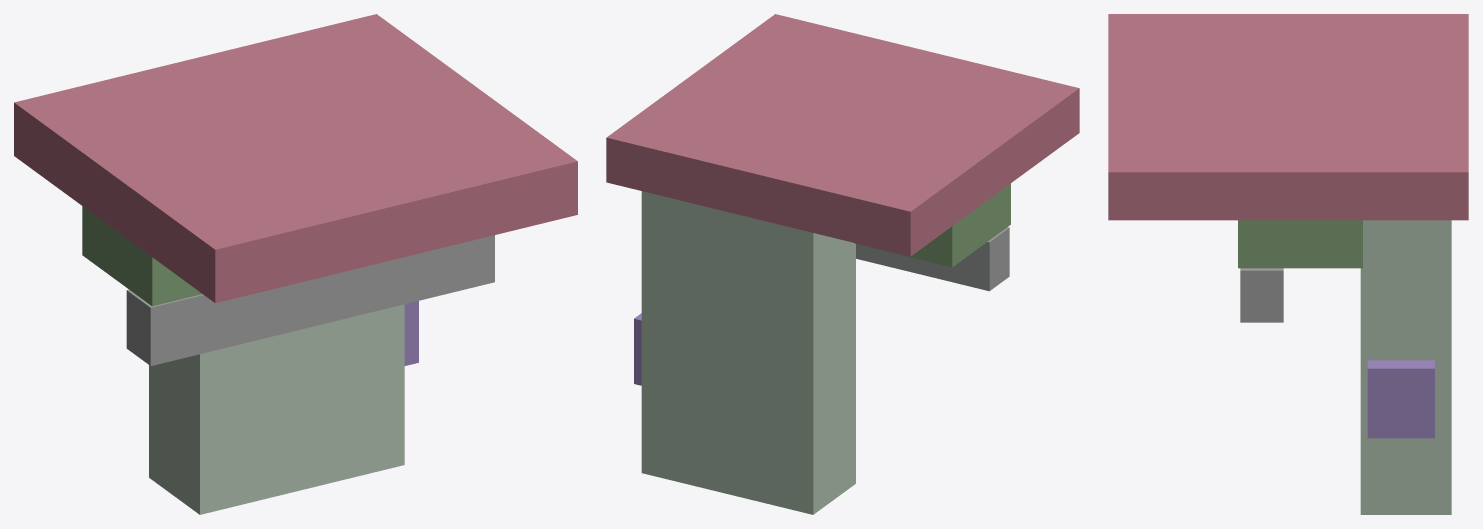
3 views of the same model, side by side, from view 1: azimuth 30°, elevation 25°; view 2: azimuth 150°, elevation 25°; view 3: azimuth 270°, elevation 25° (orthographic). The views are drawn at different scales.
Visible parts, largest first — view 1: world; view 2: world; view 3: world.
Boxes of the visible parts, <box> form: world: <box>14,14,577,514</box>; world: <box>606,14,1079,514</box>; world: <box>1108,14,1468,514</box>.
Bounding box in the file's own units: 7.8 × 8.2 × 7.5.
